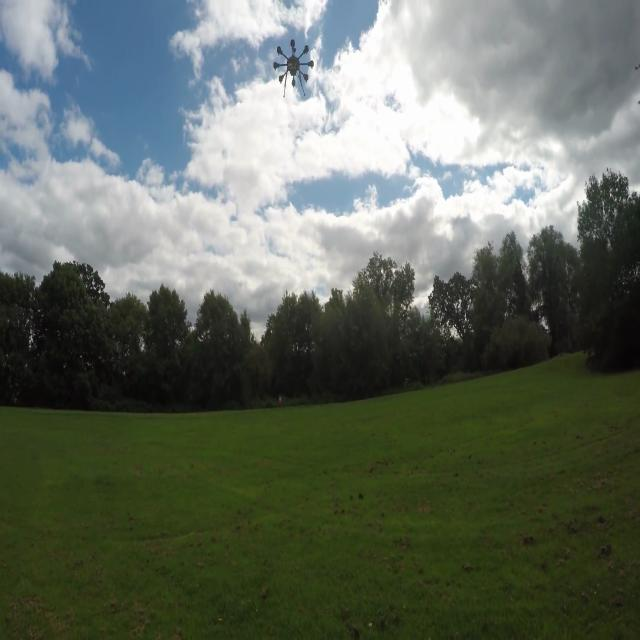drone: (267, 30, 325, 97)
